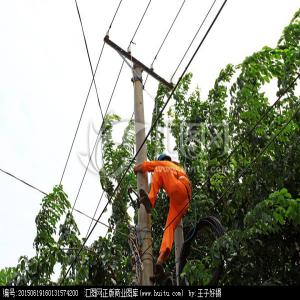blue: (157, 154, 173, 166)
